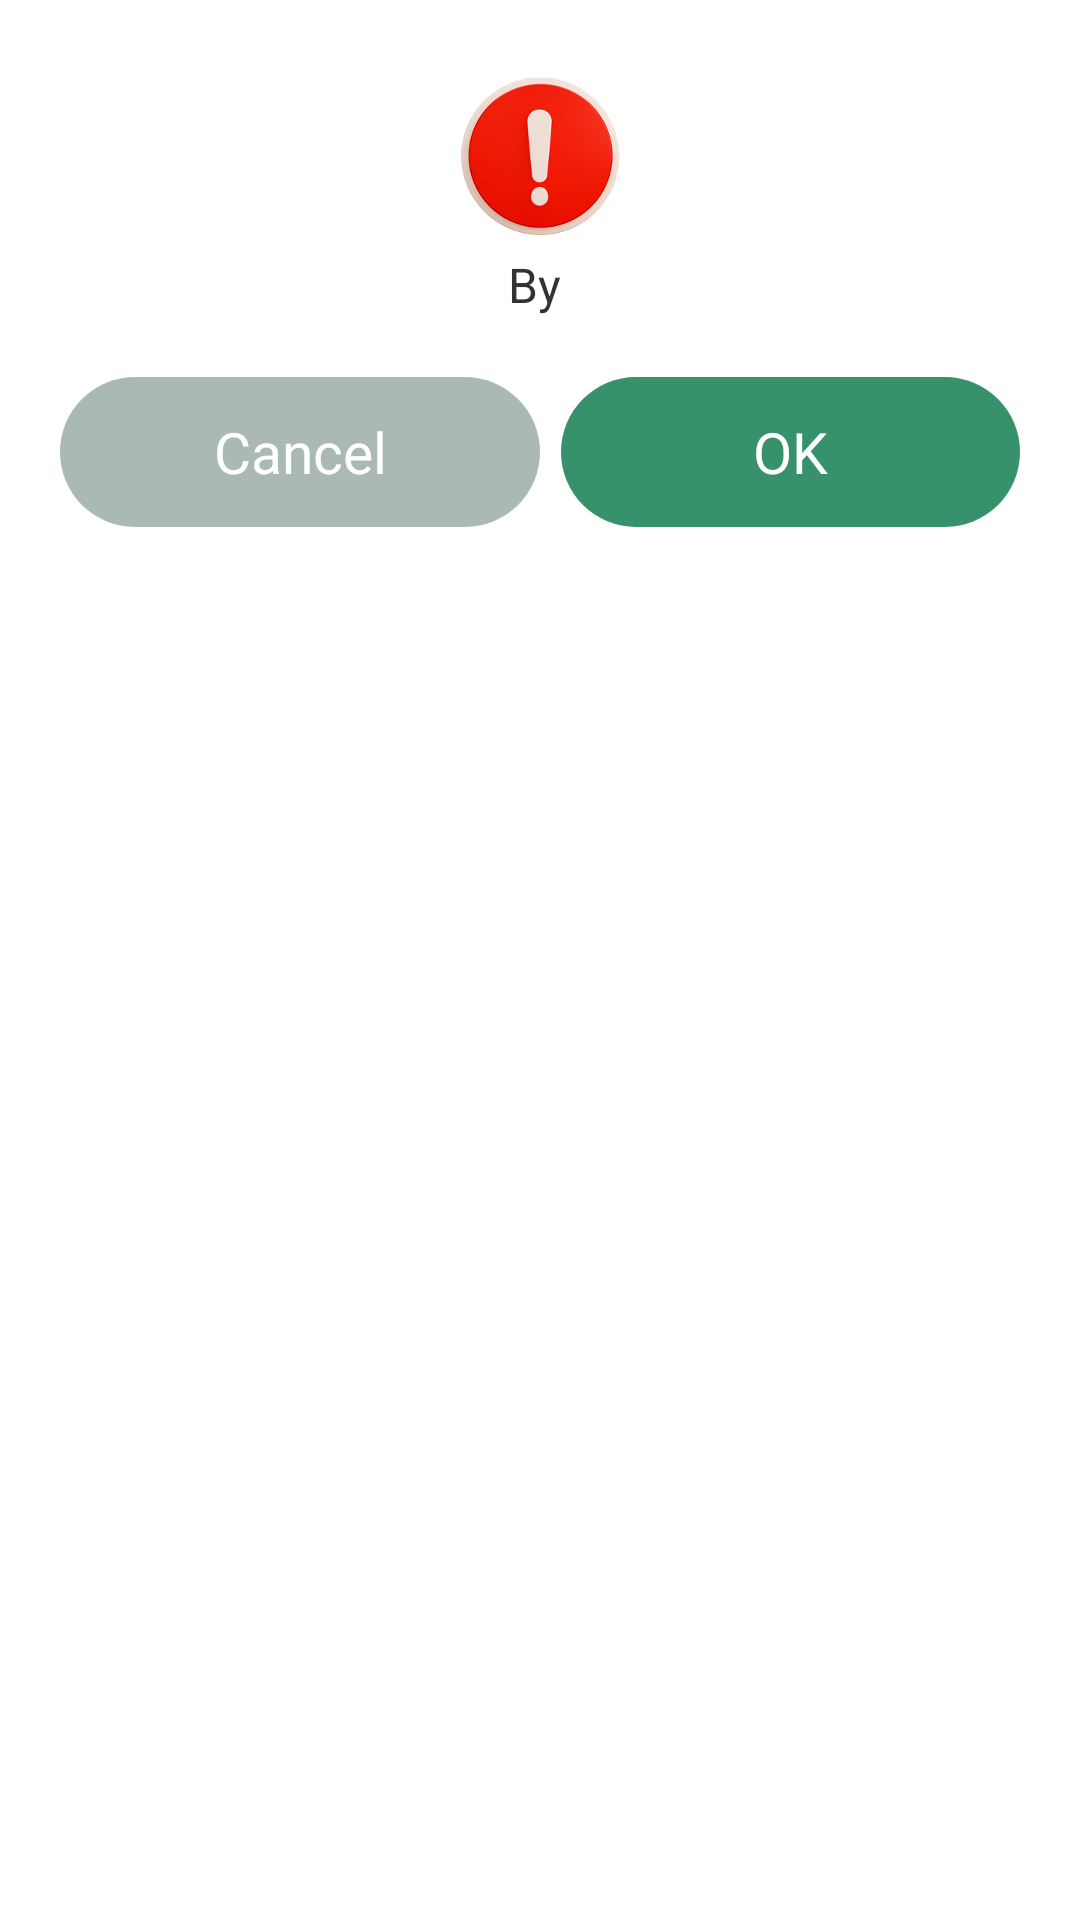

Where icons sit on this 1080*1920 app screen, as (x1, y1, x2, y2):
fail: (461, 78, 619, 235)
